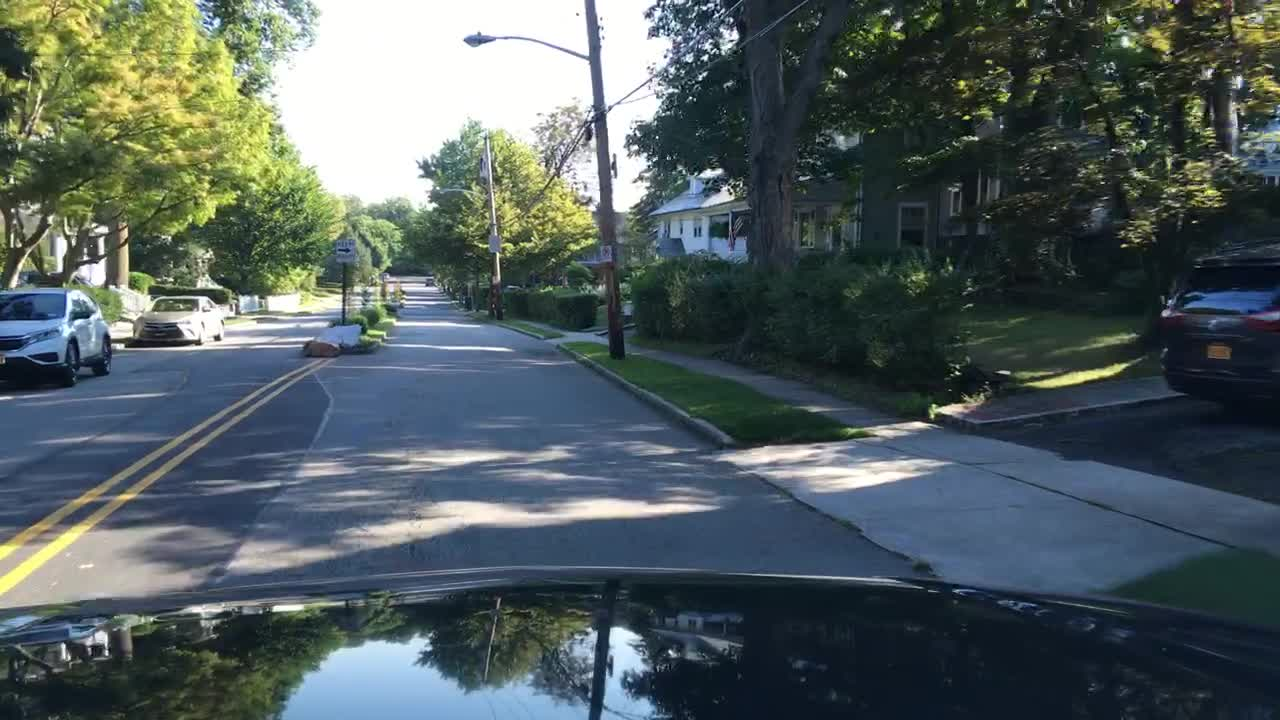car: (1154, 239, 1278, 403), (1, 285, 112, 390), (130, 292, 226, 346), (420, 274, 437, 288), (377, 269, 393, 281)
traffic sign: (332, 236, 355, 266), (486, 232, 503, 256), (597, 242, 613, 267)
